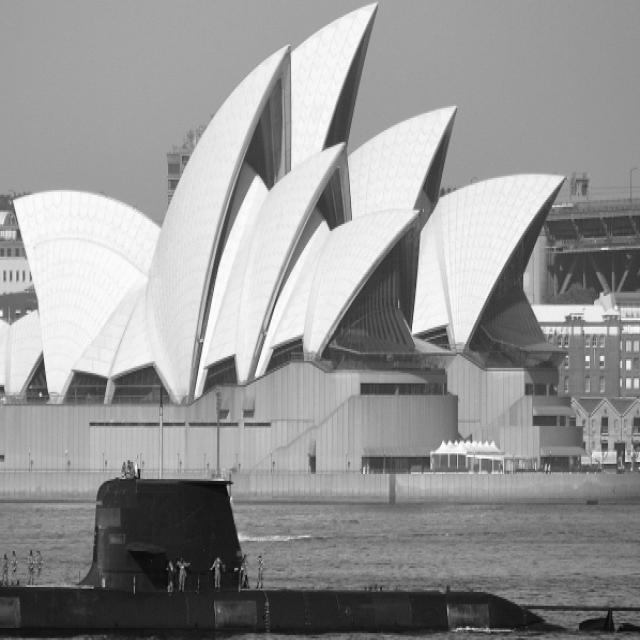submarine: (1, 382, 640, 640)
